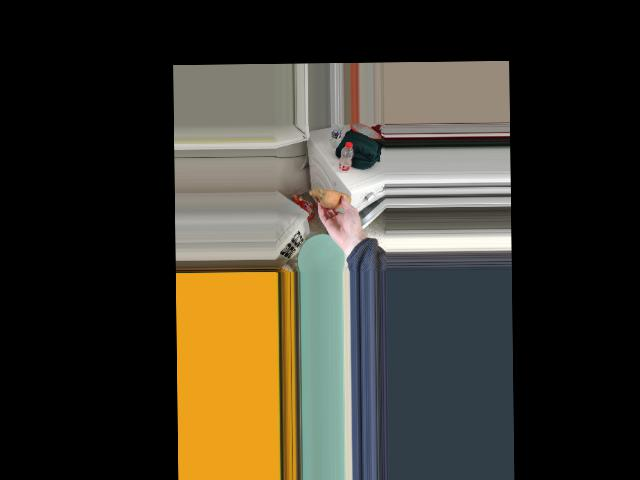sweet_potato: (317, 188, 348, 207)
